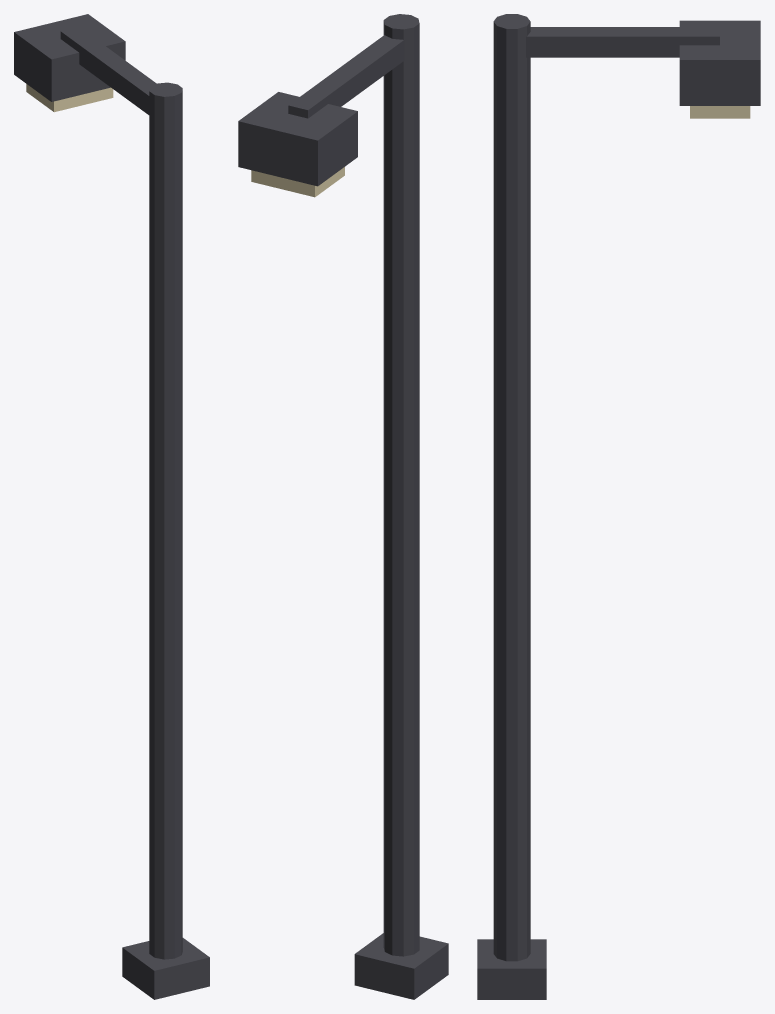
File: SM_K_StreetLamp.obj
The picture shows the model from 3 angles, left to right: view 1: azimuth 30°, elevation 25°; view 2: azimuth 150°, elevation 25°; view 3: azimuth 270°, elevation 25°; orthographic projection. The views are drawn at different scales.
Parts seen in each view (by area): view 1: SM_K_StreetLamp; view 2: SM_K_StreetLamp; view 3: SM_K_StreetLamp.
Boxes of the visible parts, box(x1,y1,x2,y2) form: SM_K_StreetLamp: box(14, 14, 209, 999); SM_K_StreetLamp: box(238, 14, 448, 999); SM_K_StreetLamp: box(477, 14, 760, 999).
Size of the model in its own units: 0.4 by 4.6 by 1.23.
